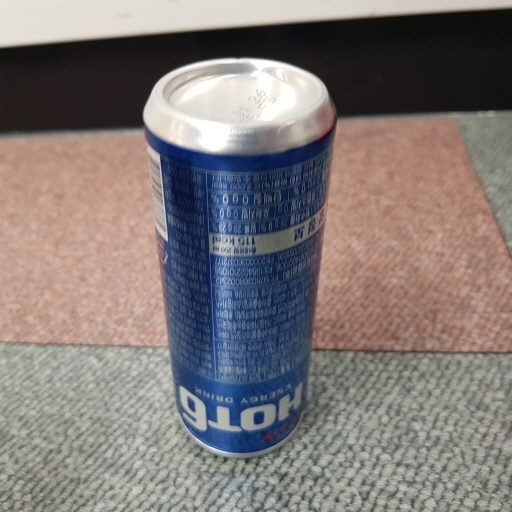Metal_0: (139, 57, 337, 463)
